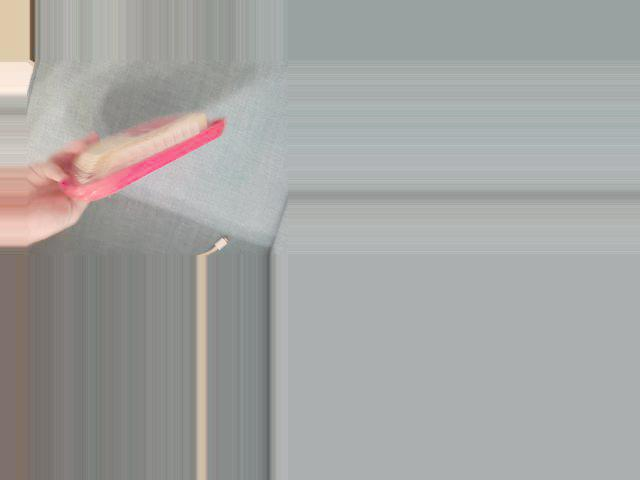cheese: (59, 105, 226, 209)
